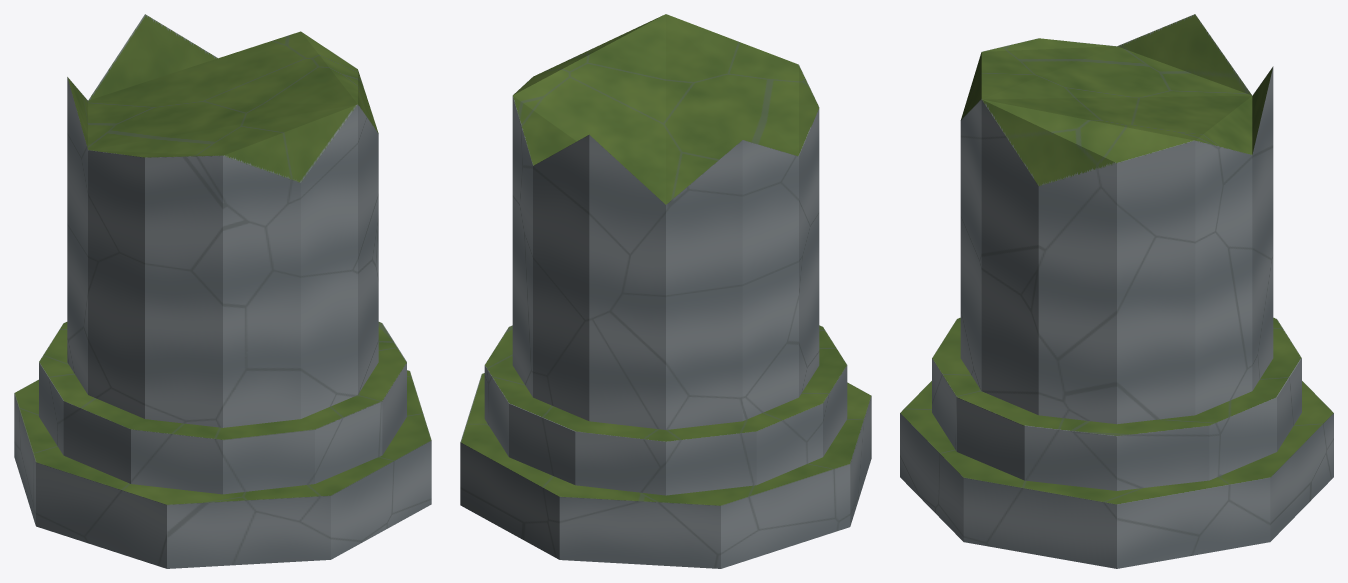
The model's file is observatory_pillar_broken.glb.
The picture shows the model from 3 angles, left to right: view 1: azimuth 30°, elevation 25°; view 2: azimuth 150°, elevation 25°; view 3: azimuth 270°, elevation 25°; orthographic projection.
Parts seen in each view (by area): view 1: observatory_pillar_broken_Mesh; view 2: observatory_pillar_broken_Mesh; view 3: observatory_pillar_broken_Mesh.
Part boxes in pixels (bbox=[...]): observatory_pillar_broken_Mesh: bbox=[14, 14, 431, 568]; observatory_pillar_broken_Mesh: bbox=[460, 14, 871, 568]; observatory_pillar_broken_Mesh: bbox=[900, 14, 1333, 568].
Bounding box in the file's own units: 1.22 × 1.28 × 1.22.
Materials: 1 (1 with a texture image).
